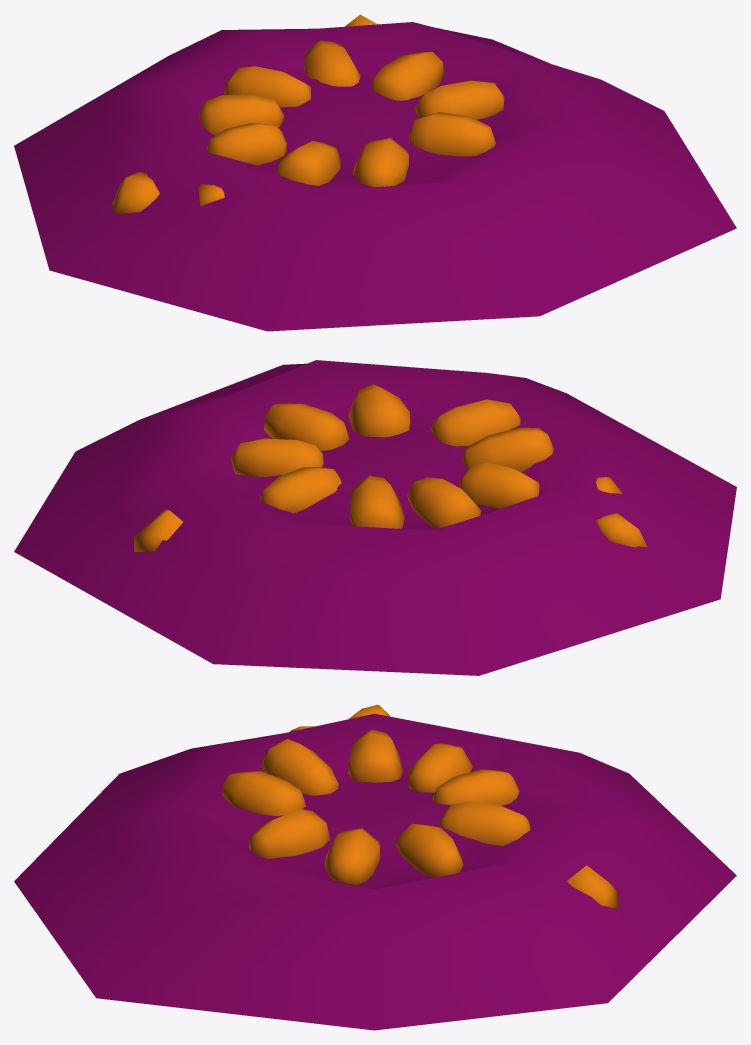
The model's file is DinoEggsNest_Parts.fbx.
The picture shows the model from 3 angles, top to bottom: view 1: azimuth 30°, elevation 25°; view 2: azimuth 150°, elevation 25°; view 3: azimuth 270°, elevation 25°; orthographic projection.
Visible parts, largest first — view 1: egg-dino-nest_Parts, egg-dino-nest_Parts.002, egg-dino-nest_Parts.003, egg-dino-nest_Parts.004, egg-dino-nest_Parts.008, egg-dino-nest_Parts.007, egg-dino-nest_Parts.006, egg-dino-nest_Parts.001, egg-dino-nest_Parts.009, egg-dino-nest_Parts.005, egg-dino-nest_Parts.011; view 2: egg-dino-nest_Parts, egg-dino-nest_Parts.003, egg-dino-nest_Parts.001, egg-dino-nest_Parts.004, egg-dino-nest_Parts.009, egg-dino-nest_Parts.008, egg-dino-nest_Parts.007, egg-dino-nest_Parts.002, egg-dino-nest_Parts.005, egg-dino-nest_Parts.006, egg-dino-nest_Parts.010, egg-dino-nest_Parts.011; view 3: egg-dino-nest_Parts, egg-dino-nest_Parts.002, egg-dino-nest_Parts.005, egg-dino-nest_Parts.001, egg-dino-nest_Parts.009, egg-dino-nest_Parts.004, egg-dino-nest_Parts.003, egg-dino-nest_Parts.006, egg-dino-nest_Parts.008, egg-dino-nest_Parts.007, egg-dino-nest_Parts.010.
Part boxes in pixels (box(x1,y1,x2,y2)): egg-dino-nest_Parts: box(14, 22, 736, 331); egg-dino-nest_Parts.002: box(409, 112, 495, 156); egg-dino-nest_Parts.003: box(415, 80, 504, 119); egg-dino-nest_Parts.004: box(371, 52, 444, 100); egg-dino-nest_Parts.008: box(207, 123, 286, 165); egg-dino-nest_Parts.007: box(199, 94, 284, 135); egg-dino-nest_Parts.006: box(224, 66, 310, 107); egg-dino-nest_Parts.001: box(353, 138, 408, 187); egg-dino-nest_Parts.009: box(277, 141, 340, 185); egg-dino-nest_Parts.005: box(304, 40, 360, 86); egg-dino-nest_Parts.011: box(112, 172, 159, 214); egg-dino-nest_Parts: box(14, 360, 736, 675); egg-dino-nest_Parts.003: box(263, 403, 349, 450); egg-dino-nest_Parts.001: box(430, 399, 520, 446); egg-dino-nest_Parts.004: box(230, 438, 323, 476); egg-dino-nest_Parts.009: box(462, 427, 553, 472); egg-dino-nest_Parts.008: box(459, 462, 539, 508); egg-dino-nest_Parts.007: box(407, 477, 481, 528); egg-dino-nest_Parts.002: box(348, 384, 410, 437); egg-dino-nest_Parts.005: box(259, 467, 341, 513); egg-dino-nest_Parts.006: box(349, 475, 404, 528); egg-dino-nest_Parts.010: box(134, 509, 182, 551); egg-dino-nest_Parts.011: box(596, 513, 647, 547); egg-dino-nest_Parts: box(14, 713, 736, 1030); egg-dino-nest_Parts.002: box(248, 809, 329, 858); egg-dino-nest_Parts.005: box(439, 801, 530, 845); egg-dino-nest_Parts.001: box(221, 771, 305, 816); egg-dino-nest_Parts.009: box(261, 739, 338, 795); egg-dino-nest_Parts.004: box(396, 823, 462, 877); egg-dino-nest_Parts.003: box(324, 828, 379, 885); egg-dino-nest_Parts.006: box(432, 769, 519, 805); egg-dino-nest_Parts.008: box(348, 729, 402, 782); egg-dino-nest_Parts.007: box(408, 743, 472, 792); egg-dino-nest_Parts.010: box(566, 865, 618, 908).
Bounding box in the file's own units: 444 × 60.65 × 443.
Materials: 1 (1 with a texture image).
